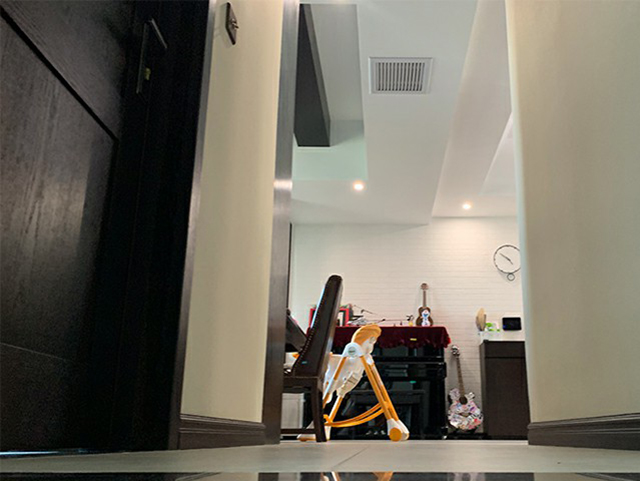cabinet: (478, 338, 530, 441)
stool: (281, 274, 343, 444), (348, 389, 427, 440)
